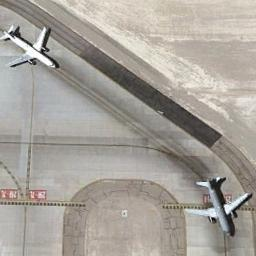Airplane: (183, 174, 254, 238), (0, 21, 64, 72)
